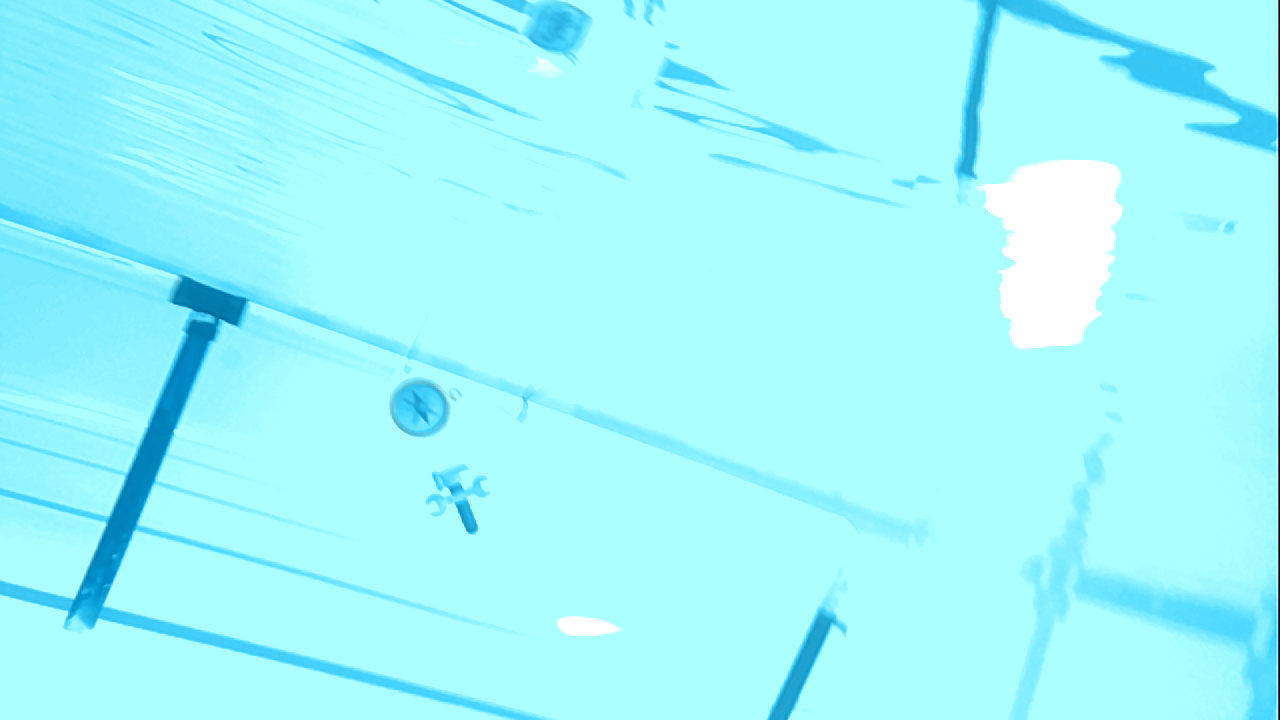compass_hammer: (375, 359, 530, 546)
gate_leg_center: (72, 276, 249, 632)
